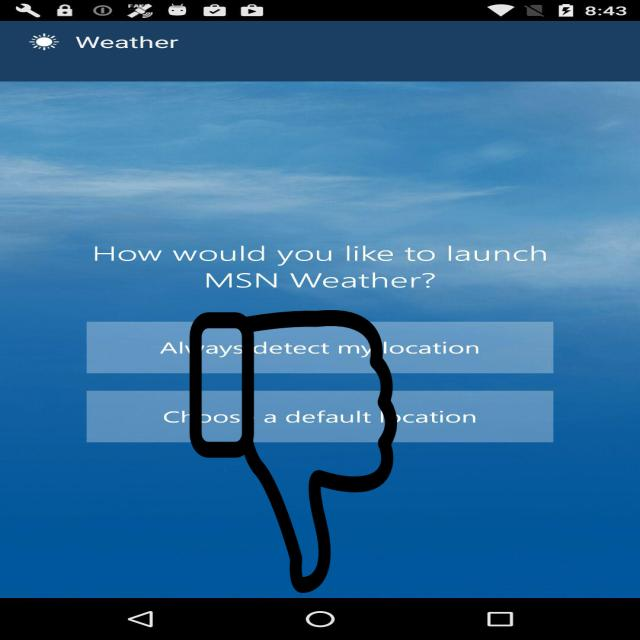obstruction: (187, 310, 400, 593)
